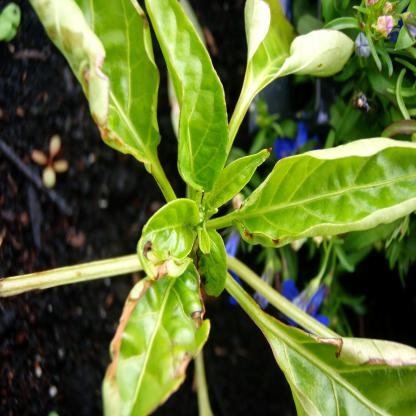bell pepper leaf spot: (27, 0, 161, 175), (238, 139, 415, 252), (99, 253, 209, 416), (270, 308, 416, 416), (130, 192, 208, 287)
